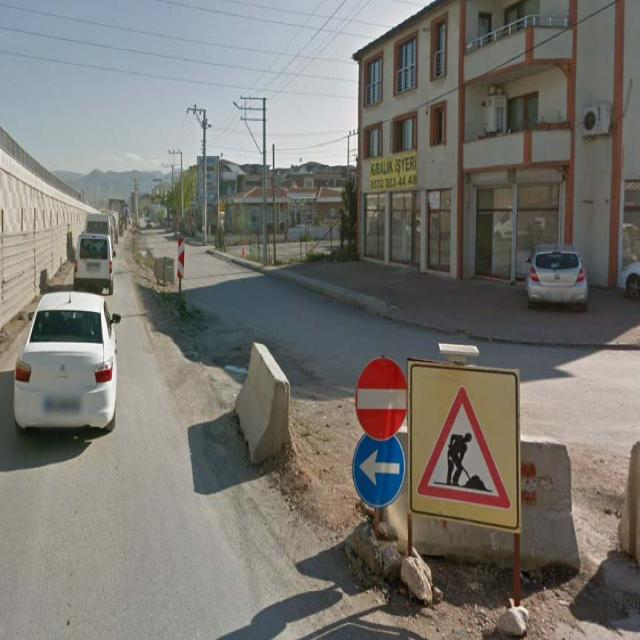girisyok: (357, 355, 408, 436)
sol: (348, 432, 406, 503)
